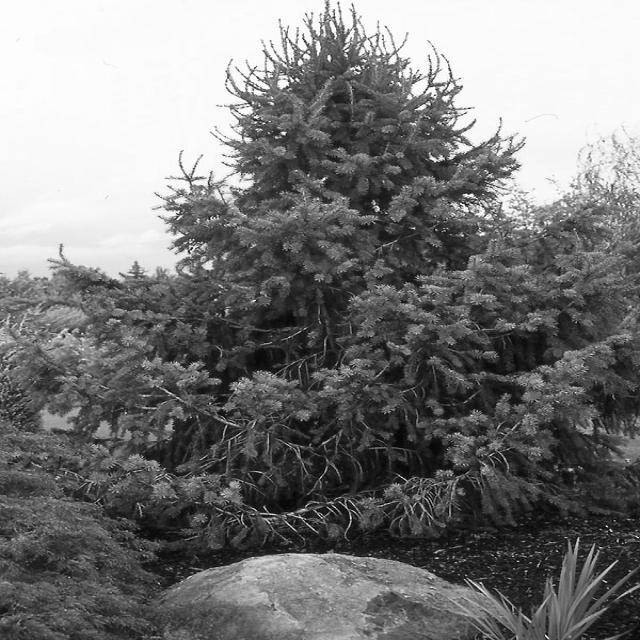Picea breweriana: (0, 4, 633, 548)
